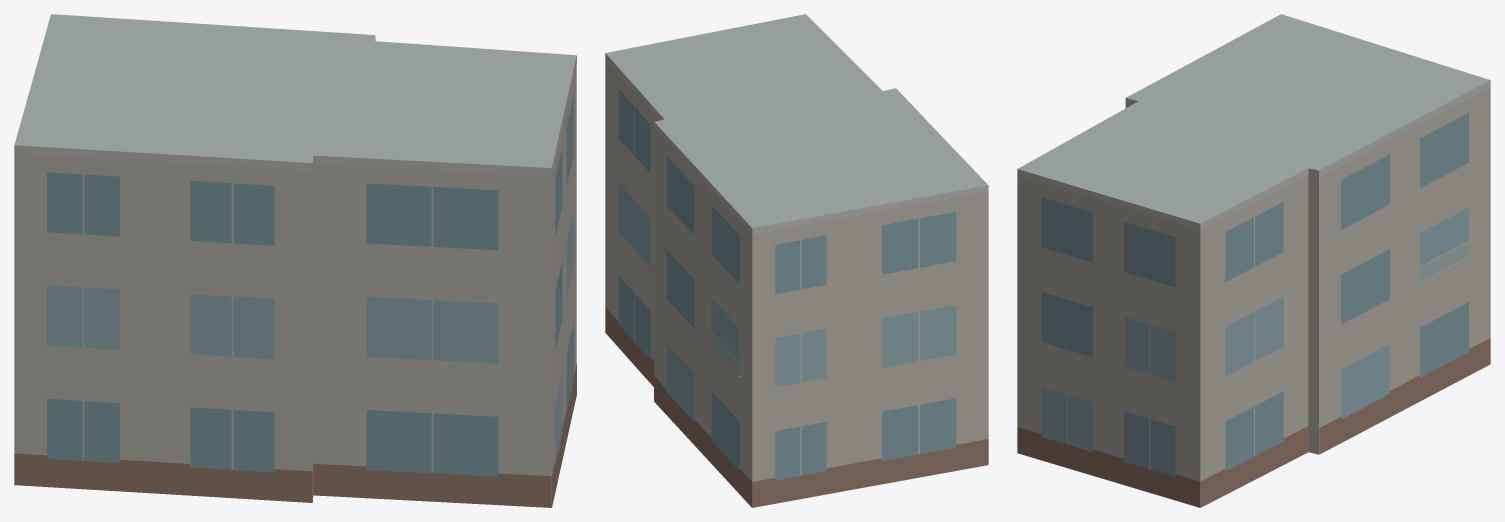
The model's file is survey-upis-32641682.glb.
3 renders of one model, left to right at view 1: azimuth 30°, elevation 25°; view 2: azimuth 150°, elevation 25°; view 3: azimuth 270°, elevation 25°, orthographic. The views are drawn at different scales.
Visible parts, largest first — view 1: survey-upis-32641682.tmp; view 2: survey-upis-32641682.tmp; view 3: survey-upis-32641682.tmp.
Boxes of the visible parts, x1=… form: survey-upis-32641682.tmp: x1=14, y1=14, x2=576, y2=507; survey-upis-32641682.tmp: x1=605, y1=14, x2=988, y2=507; survey-upis-32641682.tmp: x1=1017, y1=14, x2=1490, y2=507.
Size of the model in its own units: 16 by 10.1 by 15.26.
